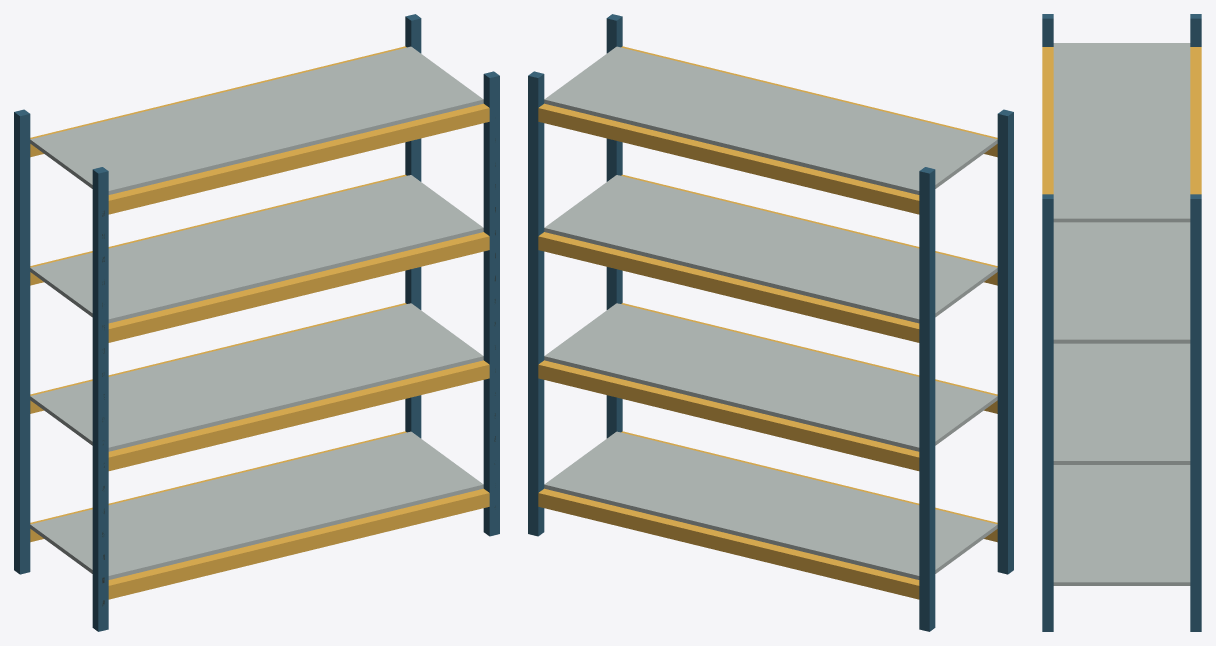
File: industrial-rack.glb
The picture shows the model from 3 angles, left to right: view 1: azimuth 30°, elevation 25°; view 2: azimuth 150°, elevation 25°; view 3: azimuth 270°, elevation 25°; orthographic projection. The views are drawn at different scales.
Parts seen in each view (by area): view 1: Deck (×4), CrossBeam1 (×4), Upright-1_-1, Upright-1_1, Upright1_1, CrossBeam-1 (×4), Upright1_-1; view 2: Deck (×4), CrossBeam-1 (×4), Upright-1_1, Upright-1_-1, Upright1_-1, CrossBeam1 (×4), Upright1_1; view 3: Deck (×4), Upright1_-1, Upright1_1, CrossBeam-1, CrossBeam1, Upright-1_-1, Upright-1_1.
Boxes of the visible parts, x1=… form: Deck (×4): x1=30, y1=46, x2=483, y2=579; CrossBeam1 (×4): x1=108, y1=103, x2=489, y2=599; Upright-1_-1: x1=14, y1=109, x2=30, y2=574; Upright-1_1: x1=92, y1=167, x2=108, y2=631; Upright1_1: x1=483, y1=71, x2=499, y2=536; CrossBeam-1 (×4): x1=30, y1=46, x2=406, y2=542; Upright1_-1: x1=405, y1=14, x2=421, y2=438; Deck (×4): x1=544, y1=46, x2=997, y2=579; CrossBeam-1 (×4): x1=538, y1=103, x2=919, y2=599; Upright-1_1: x1=997, y1=109, x2=1013, y2=574; Upright-1_-1: x1=919, y1=167, x2=935, y2=631; Upright1_-1: x1=528, y1=71, x2=544, y2=536; CrossBeam1 (×4): x1=621, y1=46, x2=997, y2=542; Upright1_1: x1=606, y1=14, x2=622, y2=438; Deck (×4): x1=1053, y1=43, x2=1190, y2=585; Upright1_-1: x1=1190, y1=194, x2=1201, y2=631; Upright1_1: x1=1042, y1=194, x2=1053, y2=631; CrossBeam-1: x1=1190, y1=47, x2=1201, y2=194; CrossBeam1: x1=1042, y1=47, x2=1053, y2=194; Upright-1_-1: x1=1190, y1=14, x2=1201, y2=46; Upright-1_1: x1=1042, y1=14, x2=1053, y2=46.
Bounding box in the file's own units: 2.2 × 2.4 × 0.8.
